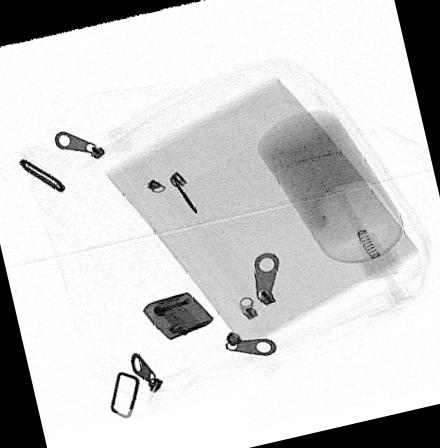Lighter: (141, 290, 211, 339)
